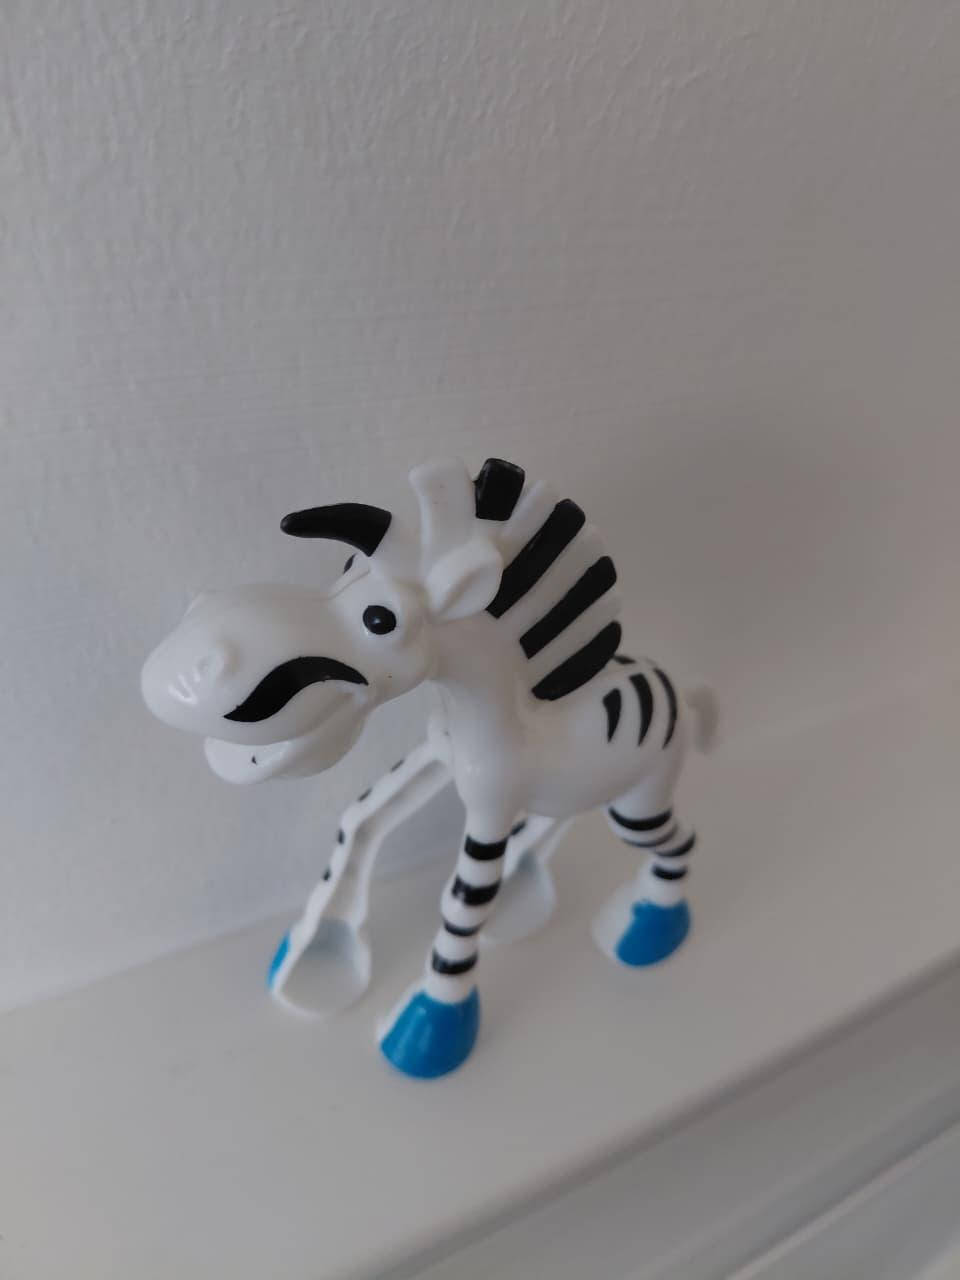zebra: (27, 295, 866, 1157)
